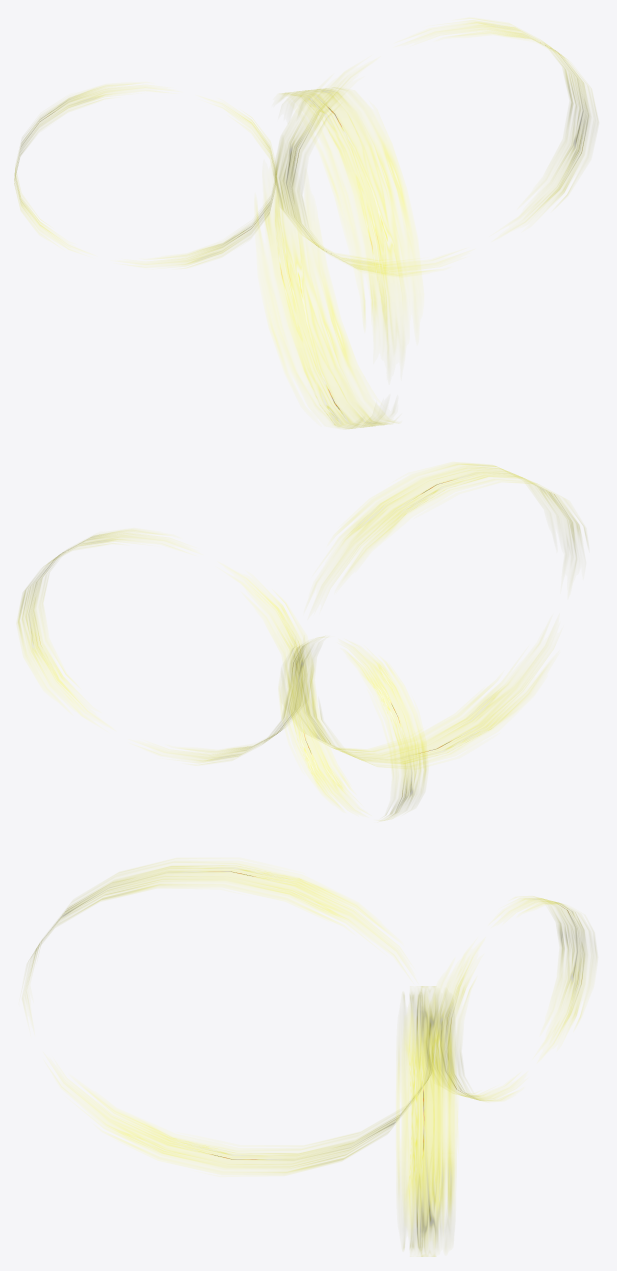
Rendered from Sunflare01.glb.
3 renders of one model, top to bottom at view 1: azimuth 30°, elevation 25°; view 2: azimuth 150°, elevation 25°; view 3: azimuth 270°, elevation 25°, orthographic. The views are drawn at different scales.
Visible parts, largest first — view 1: Sunflare01; view 2: Sunflare01; view 3: Sunflare01.
Boxes of the visible parts, x1,y1,x2,y2 form: Sunflare01: (14, 20, 589, 428); Sunflare01: (18, 463, 585, 820); Sunflare01: (30, 865, 595, 1256).
Size of the model in its own units: 75.31 by 41.17 by 76.45.
1 material, 1 textured.
